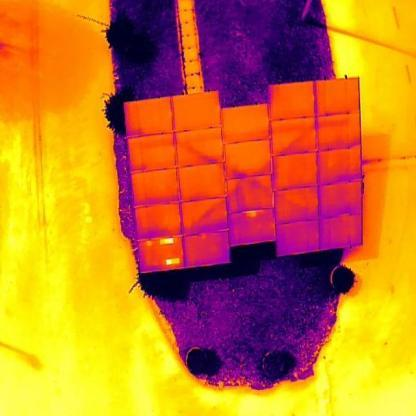anomaly: (164, 257, 181, 266), (158, 237, 175, 246)
